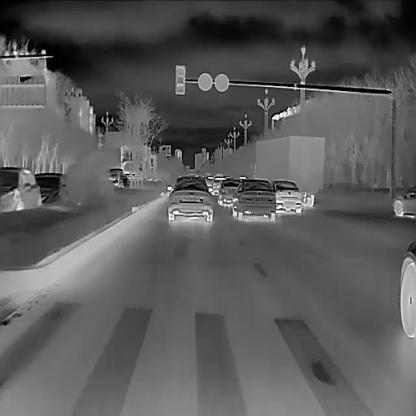car: (251, 134, 324, 207), (165, 179, 211, 221), (232, 179, 275, 220), (0, 167, 40, 211), (119, 144, 152, 182), (33, 173, 72, 204), (273, 180, 302, 214), (394, 185, 415, 218), (218, 179, 239, 206), (212, 176, 232, 196)
